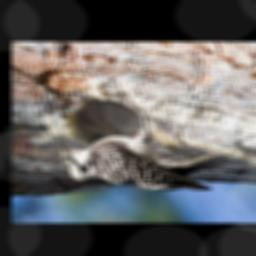Woodpecker: (50, 114, 250, 198)
